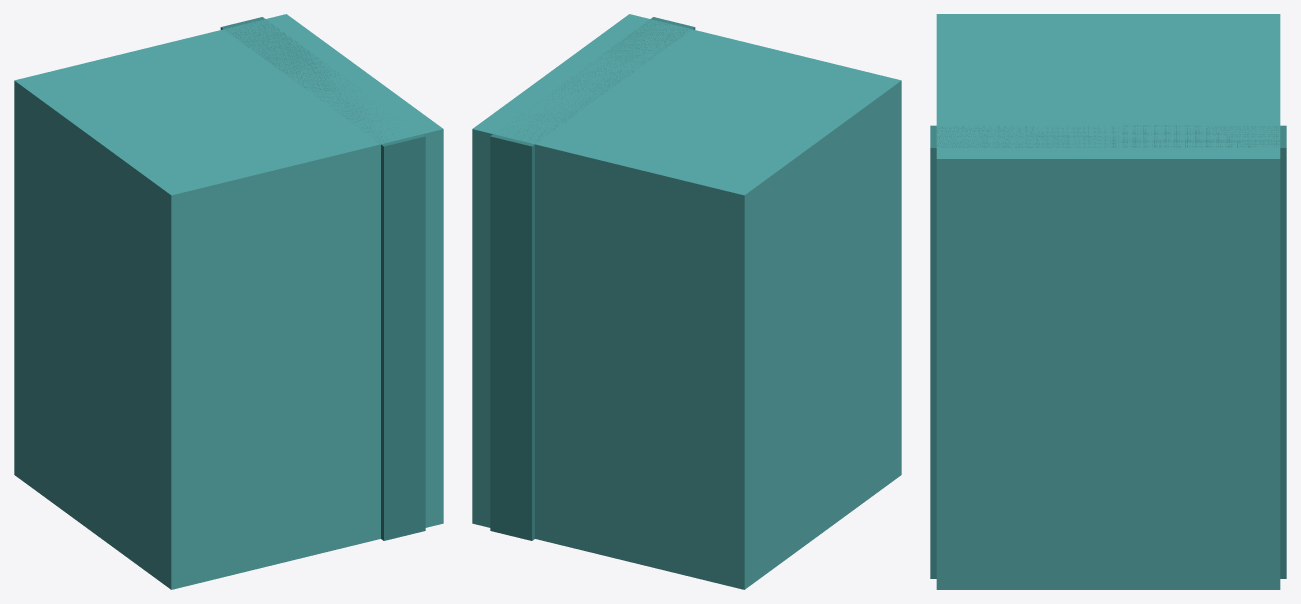
File: surfista_coxa.glb
The picture shows the model from 3 angles, left to right: view 1: azimuth 30°, elevation 25°; view 2: azimuth 150°, elevation 25°; view 3: azimuth 270°, elevation 25°; orthographic projection. The views are drawn at different scales.
Parts seen in each view (by area): view 1: surfista_coxa; view 2: surfista_coxa; view 3: surfista_coxa.
Boxes of the visible parts, bbox=[...] form: surfista_coxa: bbox=[14, 14, 443, 589]; surfista_coxa: bbox=[472, 14, 901, 589]; surfista_coxa: bbox=[930, 14, 1286, 589].
Size of the model in its own units: 0.26 by 0.36 by 0.27.
